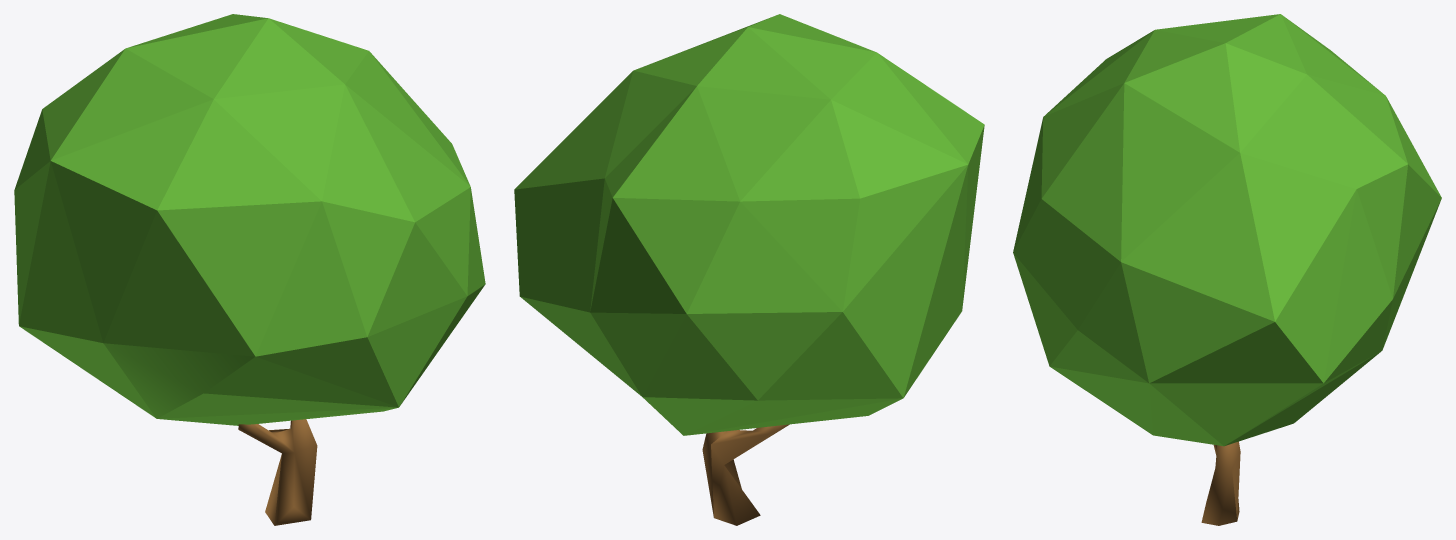
The model's file is Tree1.fbx.
The picture shows the model from 3 angles, left to right: view 1: azimuth 30°, elevation 25°; view 2: azimuth 150°, elevation 25°; view 3: azimuth 270°, elevation 25°; orthographic projection. The views are drawn at different scales.
Parts seen in each view (by area): view 1: Bush_1; view 2: Bush_1; view 3: Bush_1.
Part boxes in pixels (x1,y1,x2,y2): Bush_1: (14, 14, 485, 525); Bush_1: (514, 14, 984, 525); Bush_1: (1013, 14, 1441, 525).
Bounding box in the file's own units: 193 × 214 × 178.
